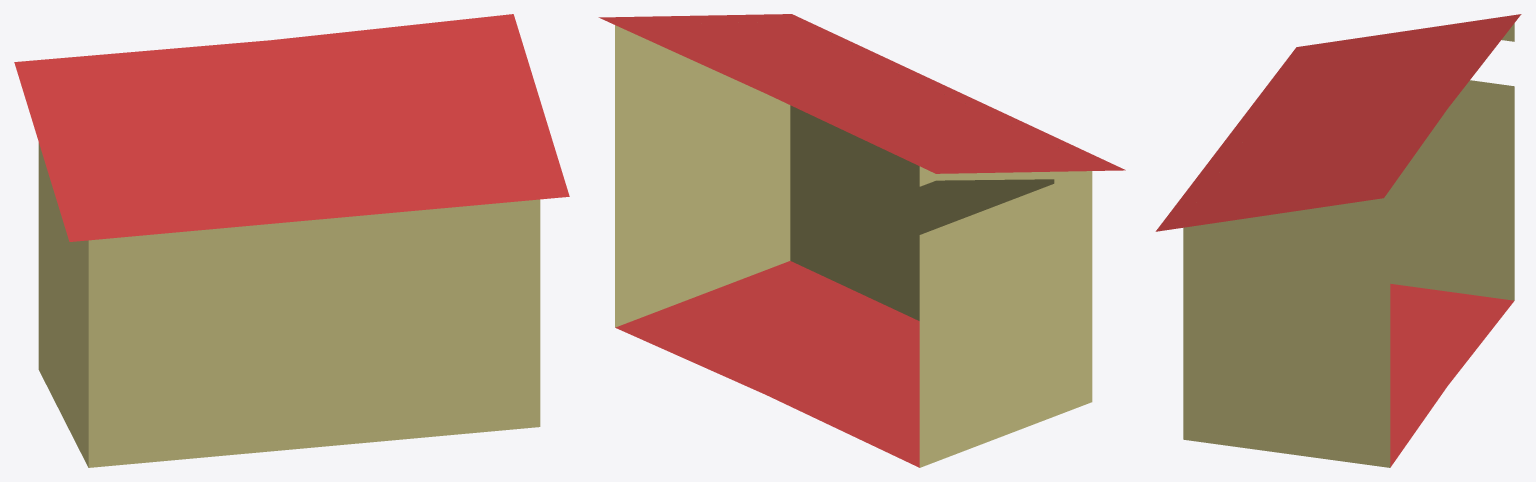
The picture shows the model from 3 angles, left to right: view 1: azimuth 30°, elevation 25°; view 2: azimuth 150°, elevation 25°; view 3: azimuth 270°, elevation 25°; orthographic projection. The views are drawn at different scales.
Bounding box in the file's own units: 11.47 × 8.22 × 6.91.
